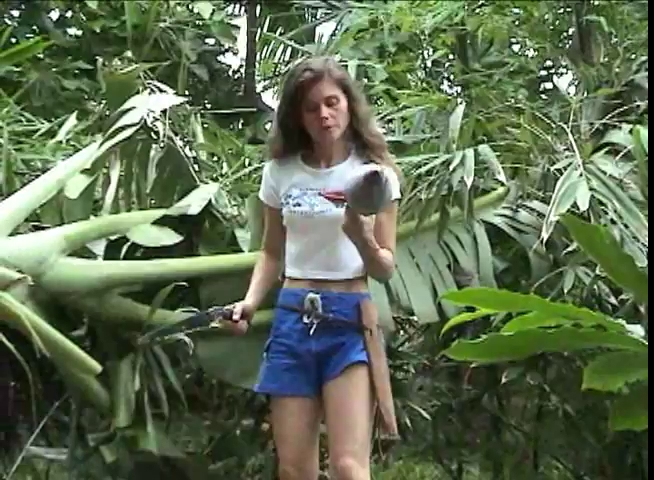person: (220, 57, 401, 480)
